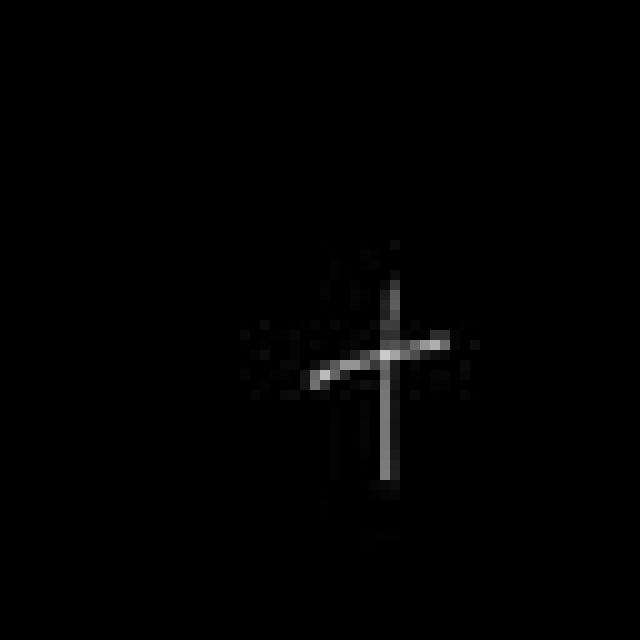10 -ten-: (292, 270, 460, 490)
